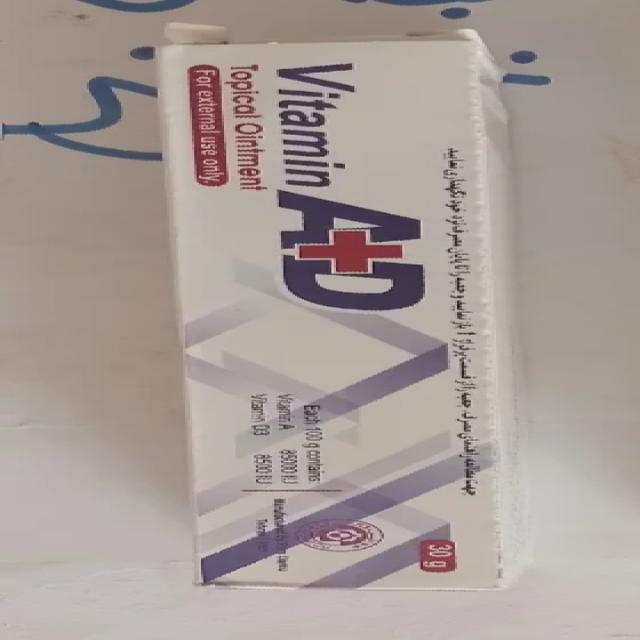drug-name: (267, 59, 443, 316)
